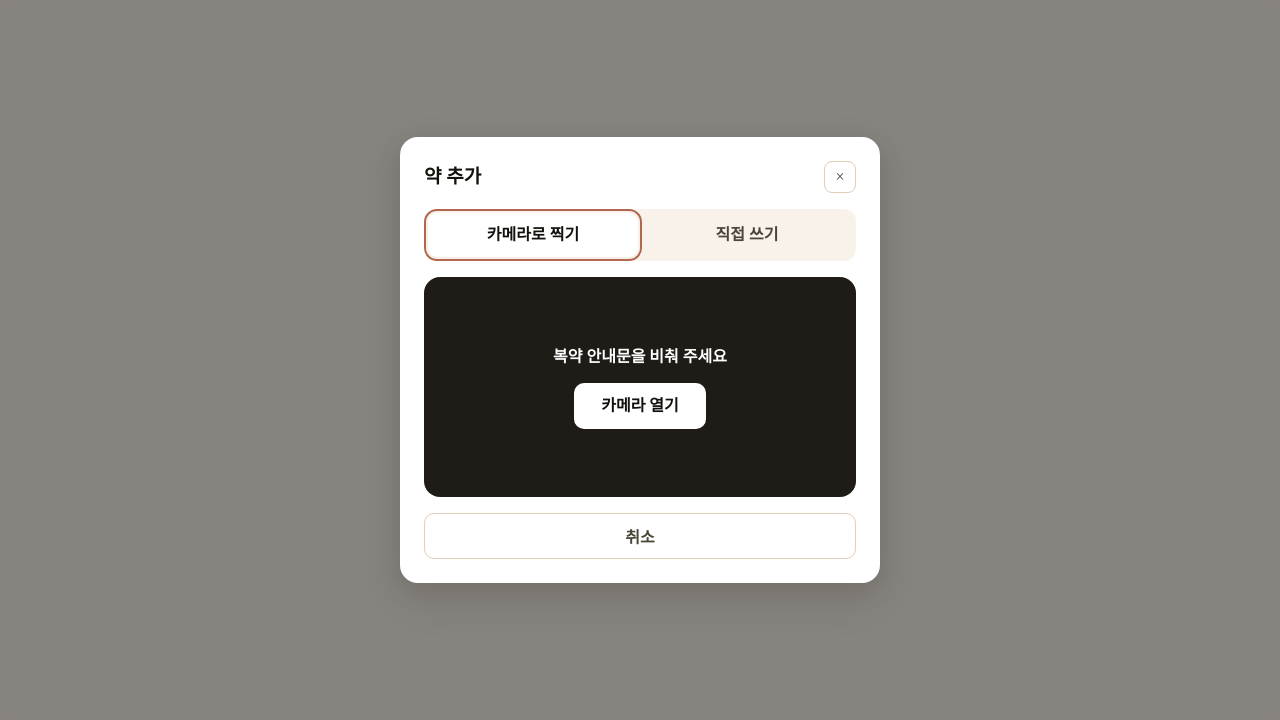
Test: MedicationAddModal (Chrome) › 2/2에 들어온 직후에는 [등록]이 잠겨, [다음]을 한 번 더 누른 탭이 등록되지 않는다 (2026-10-22 gosky)
Click the tab "직접 쓰기" at (747, 235), box [642, 213, 852, 257]
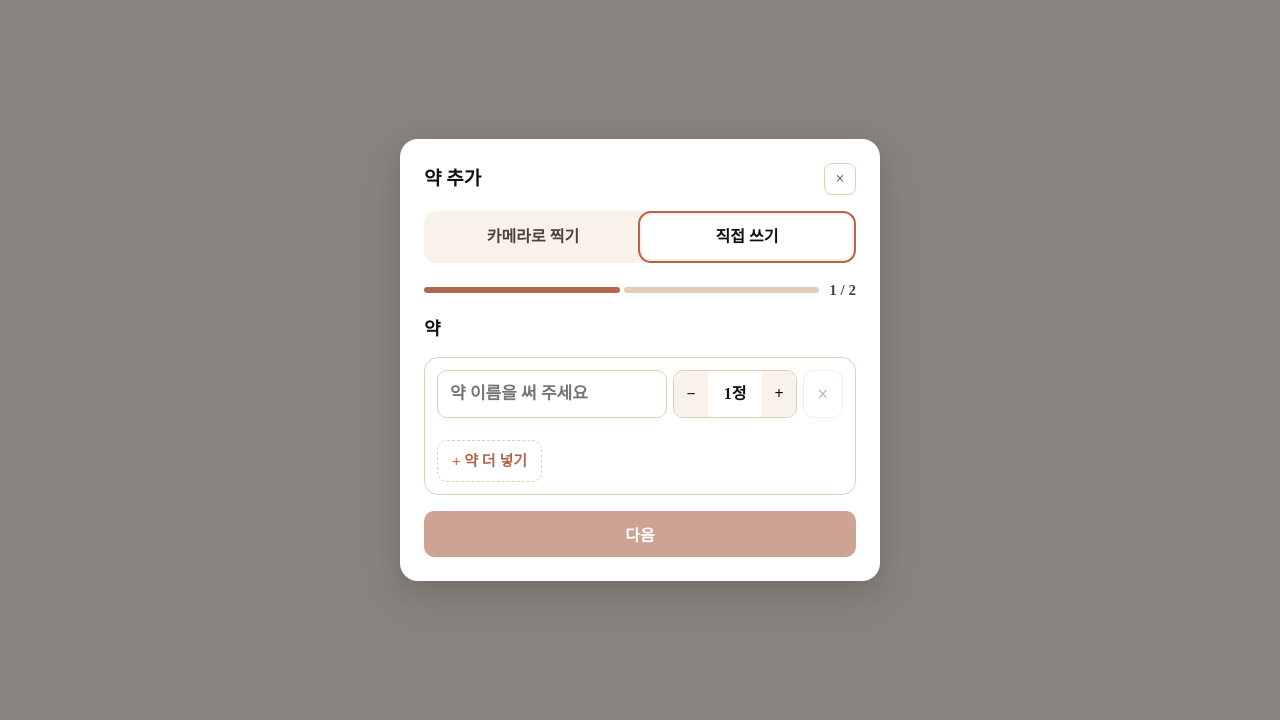
Type "혈압약" into the field named "1번째 약 이름" at (552, 394), box [437, 370, 667, 418]
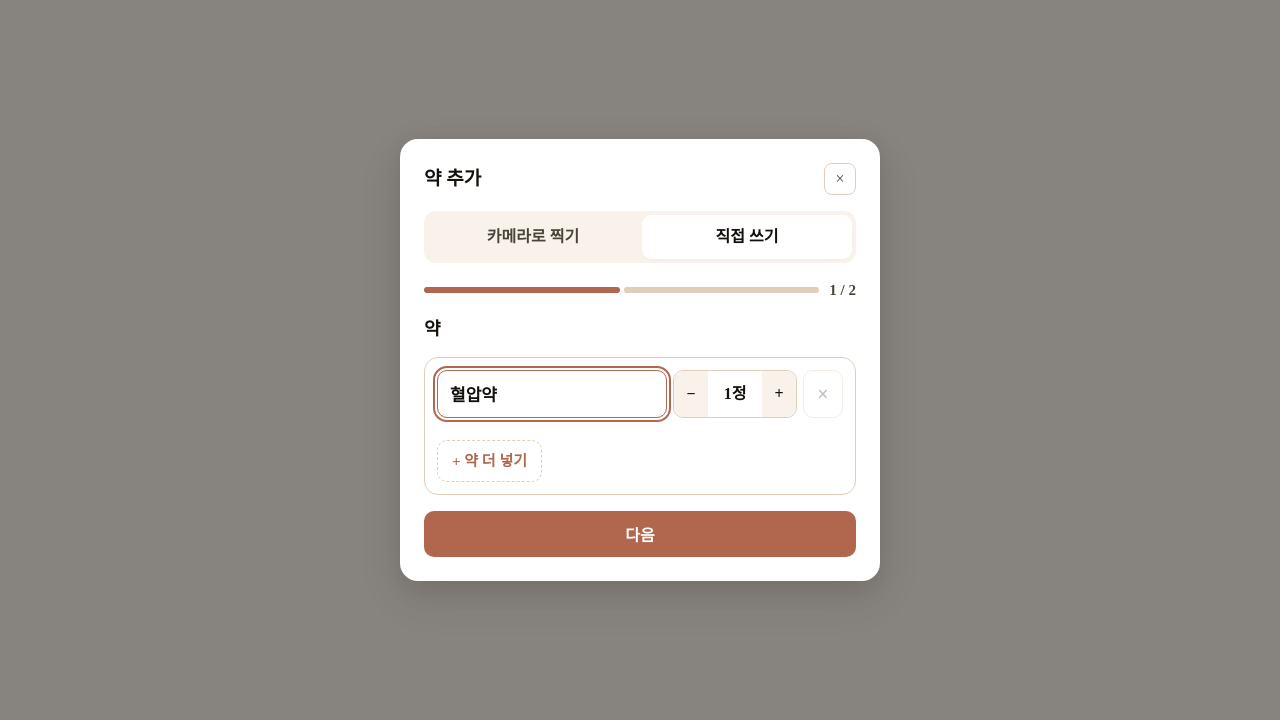
Click the button "다음" at (640, 534), box [424, 511, 856, 557]
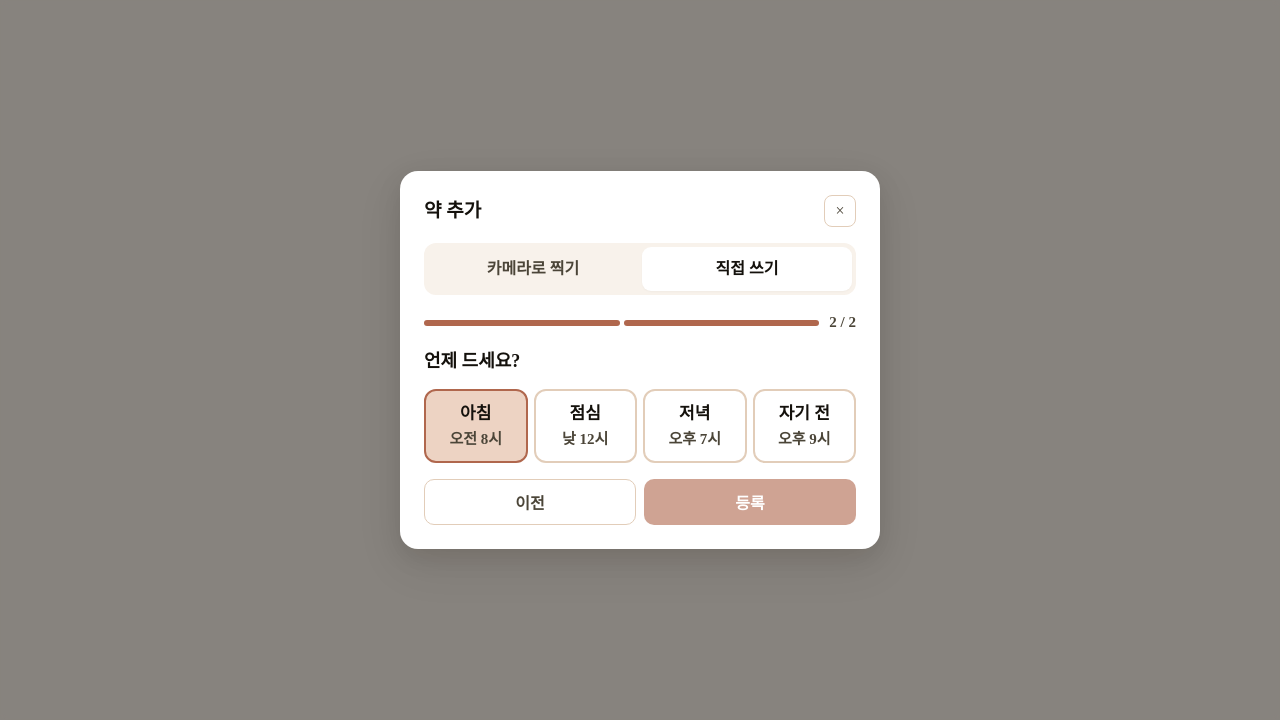
Now the button "등록" is disabled
Click the button "등록" at (750, 502), box [644, 479, 856, 525]
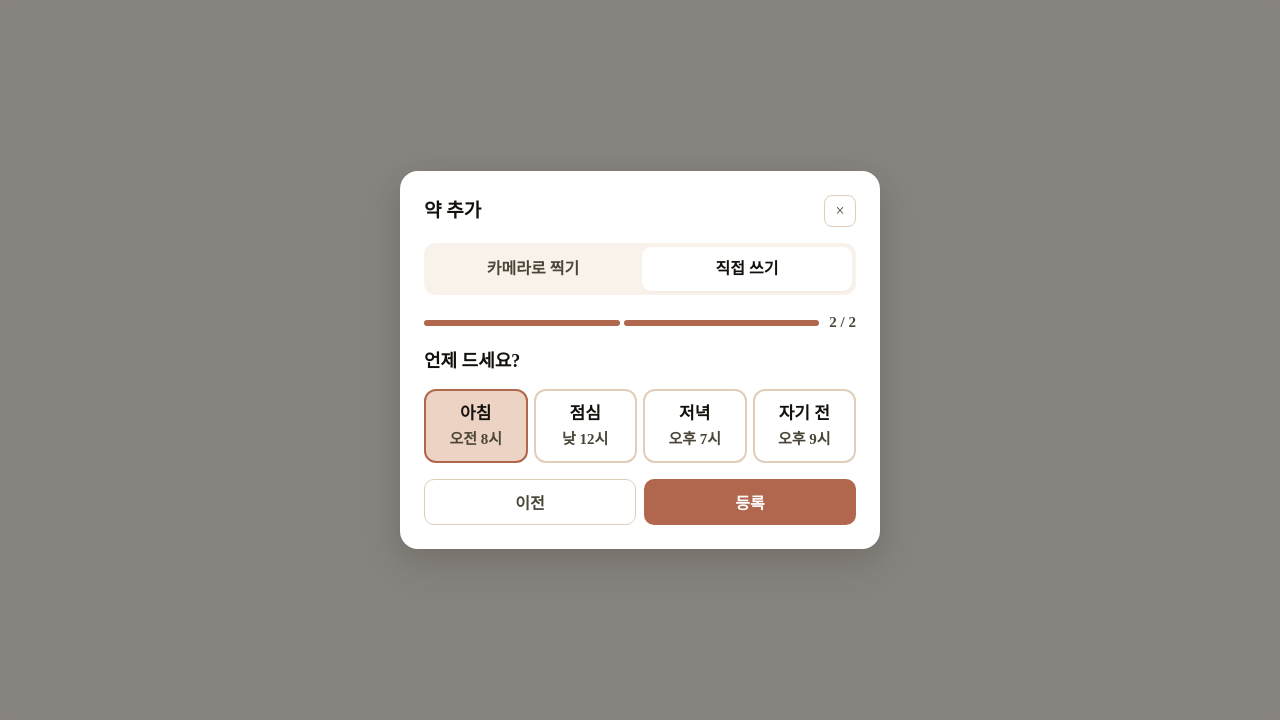
Now the button "등록" is enabled, box [644, 479, 856, 525]
